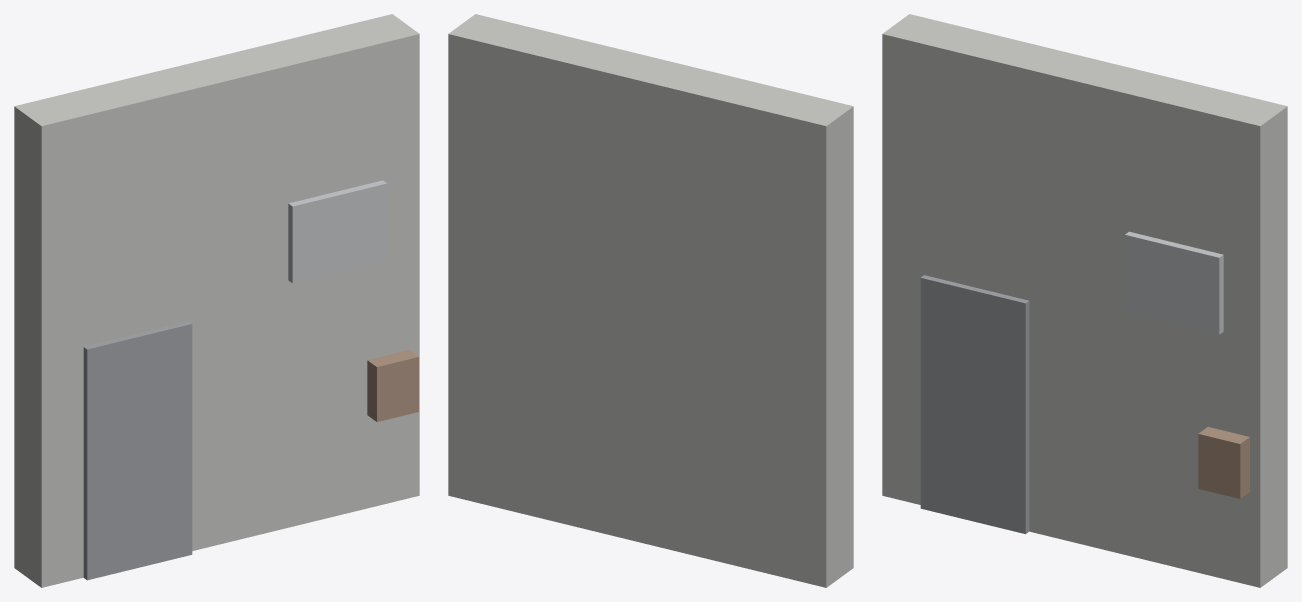
The model's file is ground_service.lod1.glb.
3 views of the same model, side by side, from view 1: azimuth 30°, elevation 25°; view 2: azimuth 150°, elevation 25°; view 3: azimuth 330°, elevation 25° (orthographic).
Visible parts, largest first — view 1: facade_ground_service; view 2: facade_ground_service; view 3: facade_ground_service.
Part boxes in pixels (box(x1,y1,x2,y2)): facade_ground_service: box(14, 14, 419, 587); facade_ground_service: box(448, 14, 853, 587); facade_ground_service: box(882, 14, 1287, 587).
Size of the model in its own units: 3.6 by 4.2 by 0.6101.
